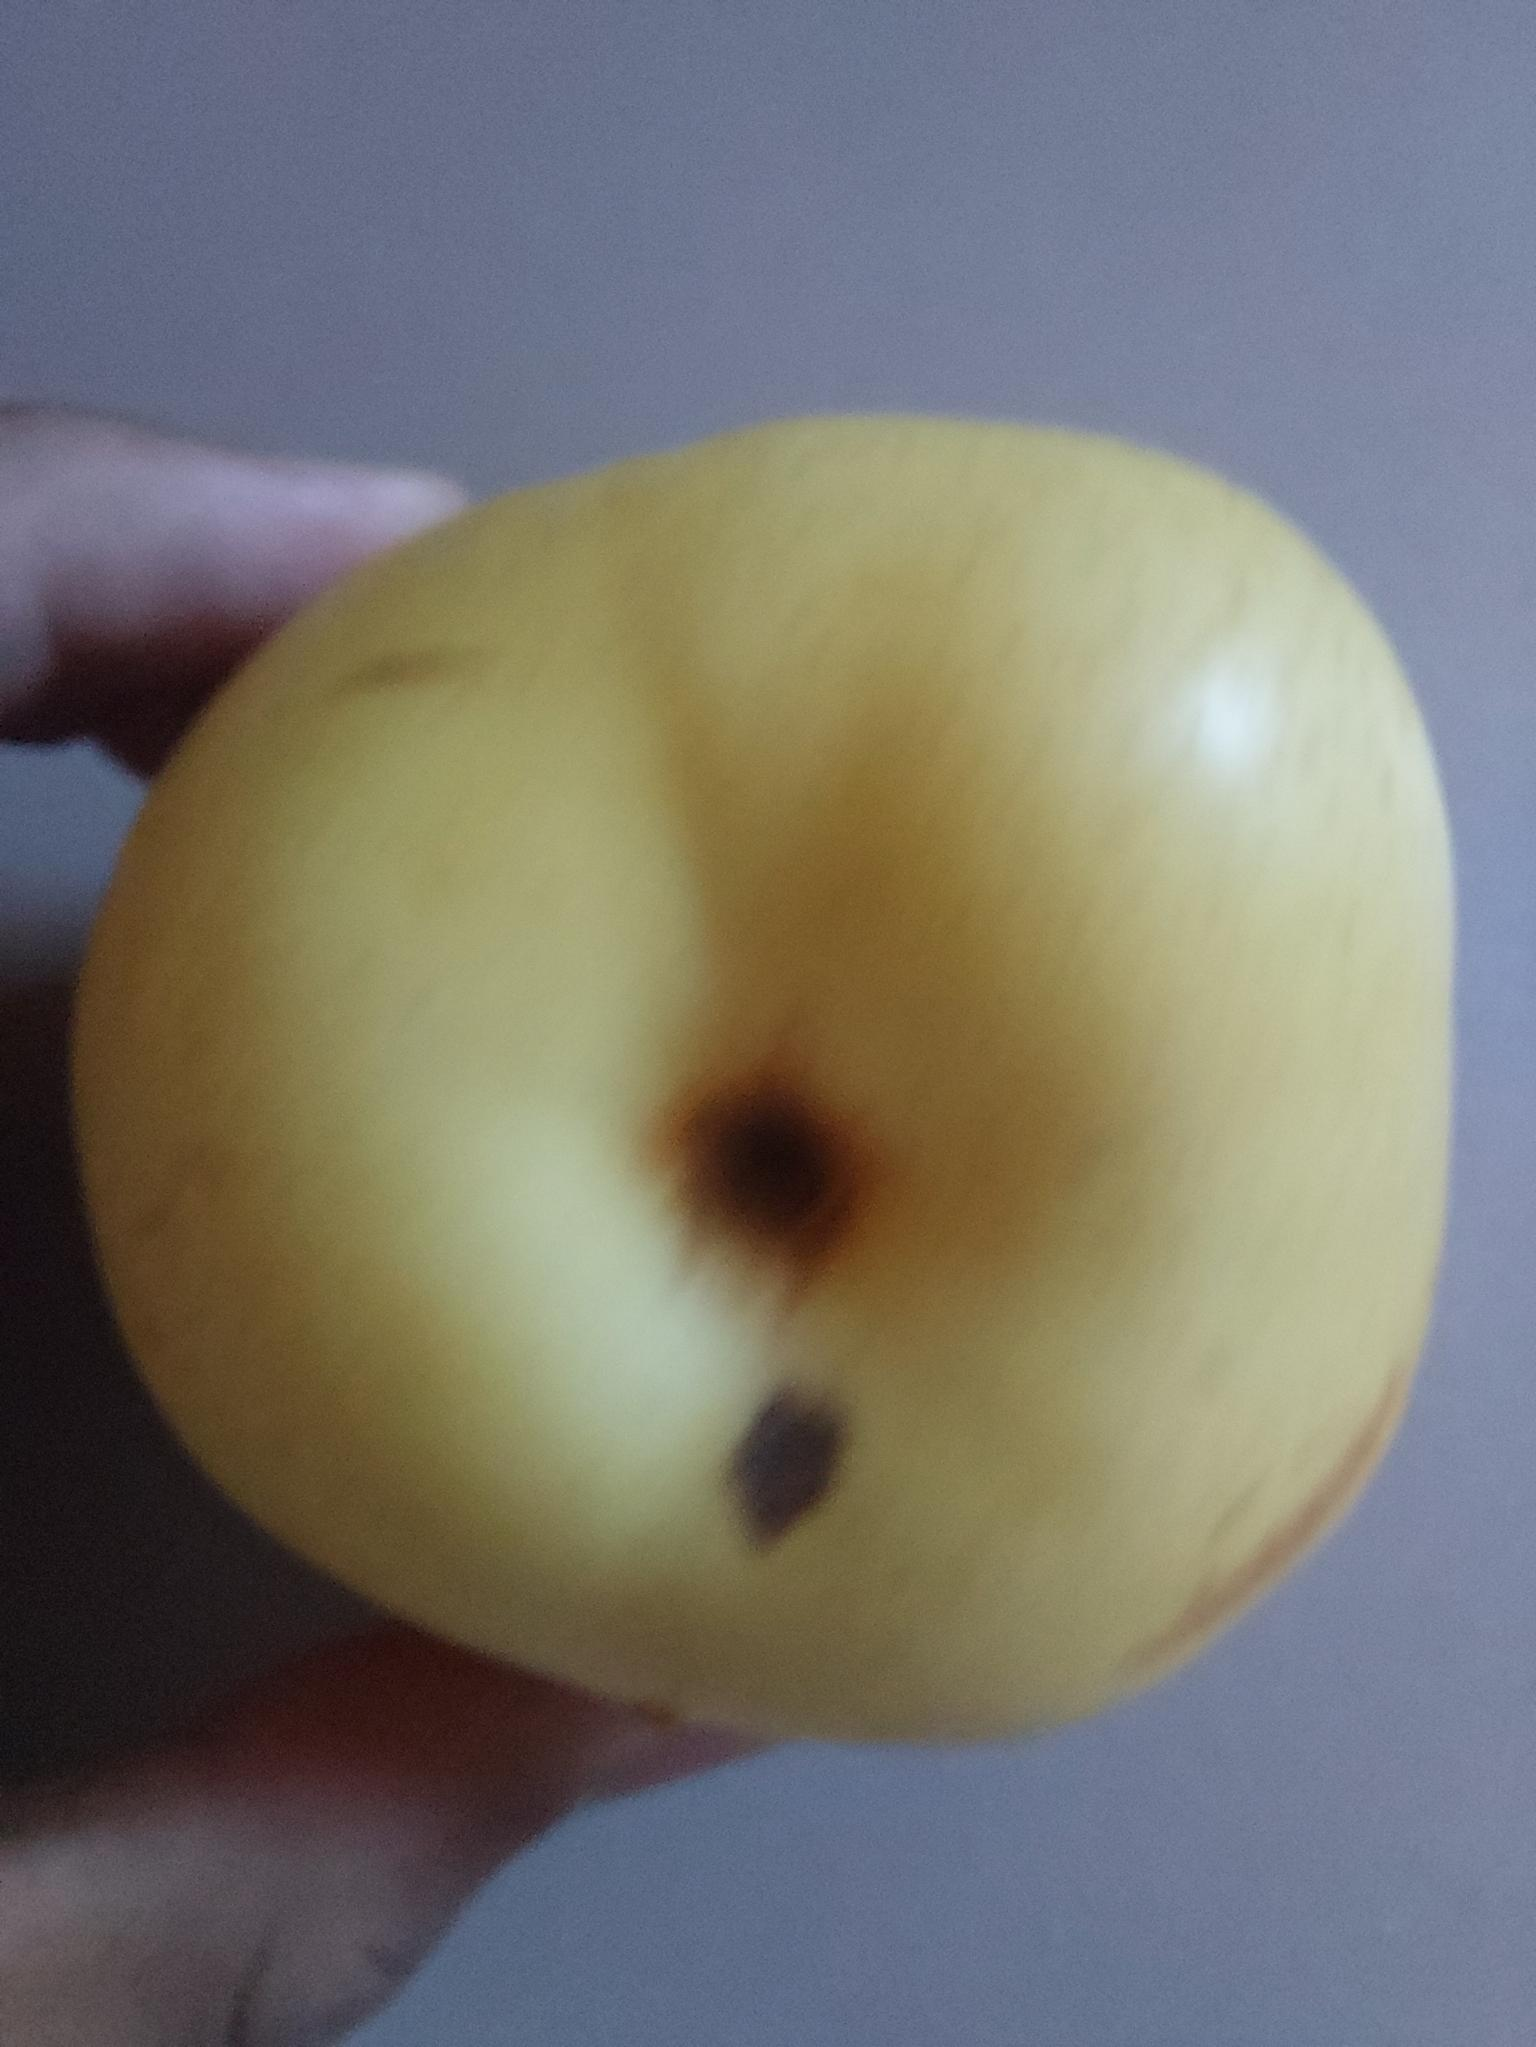Good Pear: (60, 387, 1460, 1758)
